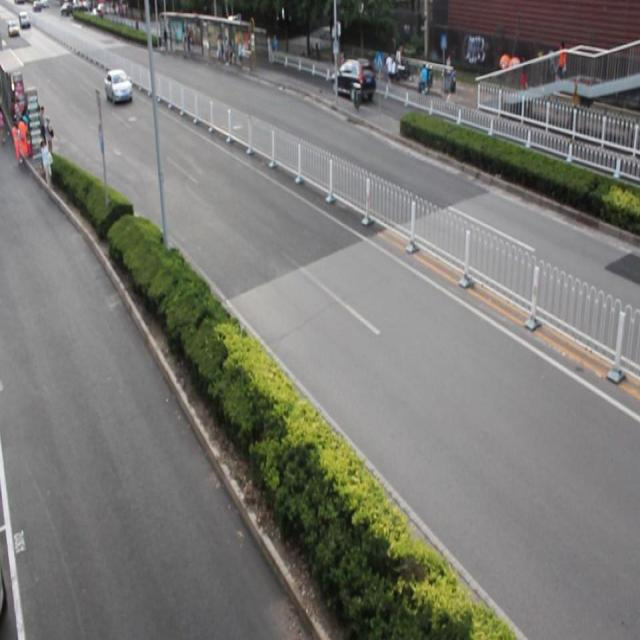car: (331, 56, 374, 104), (105, 70, 132, 104)
